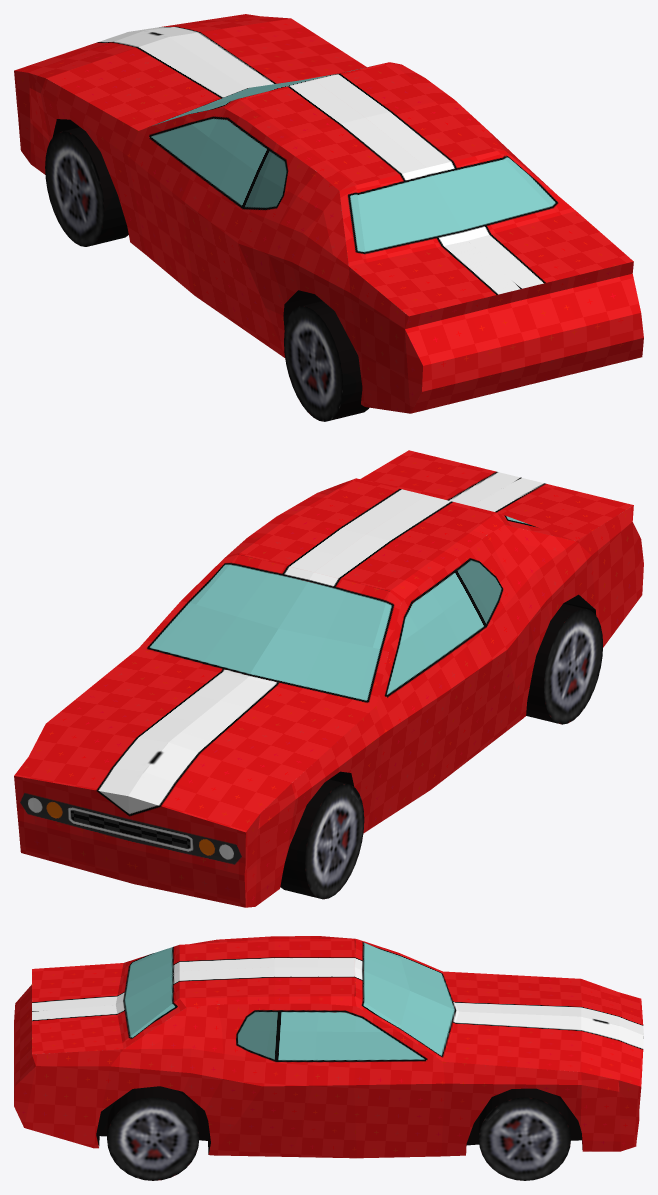
File: car.obj
The picture shows the model from 3 angles, top to bottom: view 1: azimuth 30°, elevation 25°; view 2: azimuth 150°, elevation 25°; view 3: azimuth 270°, elevation 25°; orthographic projection. The views are drawn at different scales.
Visible parts, largest first — view 1: Cube; view 2: Cube; view 3: Cube.
Boxes of the visible parts, x1=… form: Cube: x1=14, y1=14, x2=643, y2=421; Cube: x1=14, y1=450, x2=643, y2=907; Cube: x1=14, y1=936, x2=643, y2=1180.
Bounding box in the file's own units: 3.93 × 2.95 × 10.25.
Materials: 1 (1 with a texture image).
